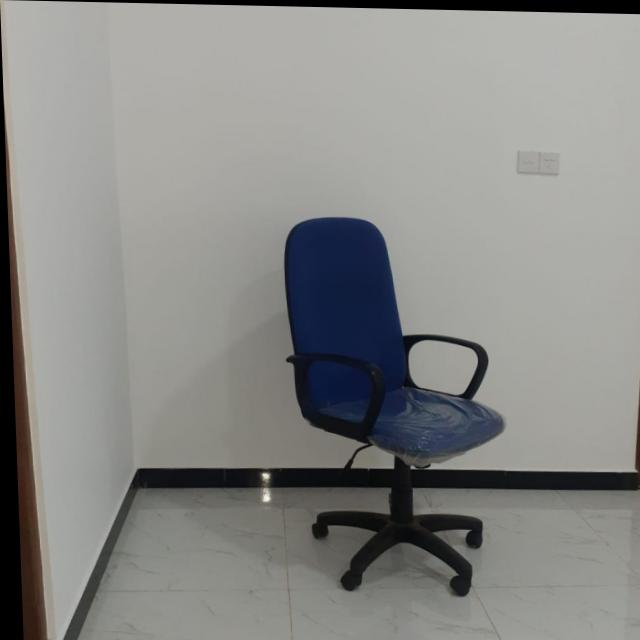Chair: (276, 212, 506, 598)
